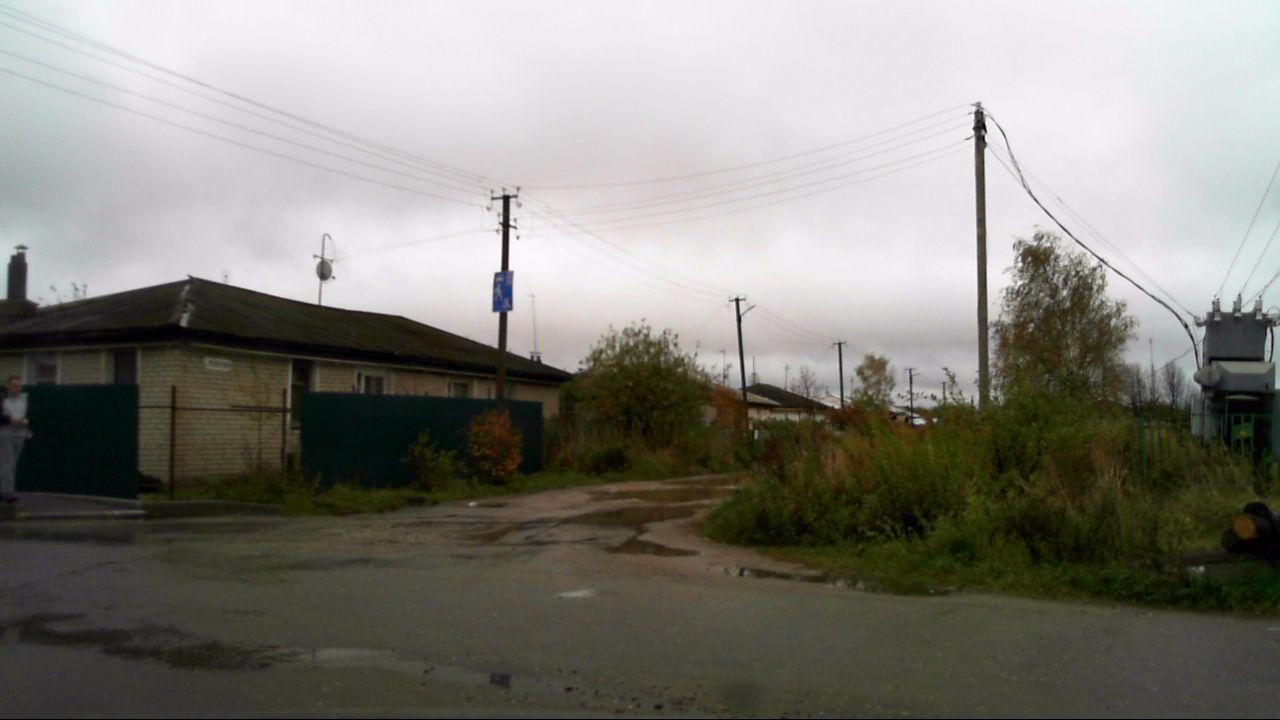5_21: (492, 271, 514, 313)
